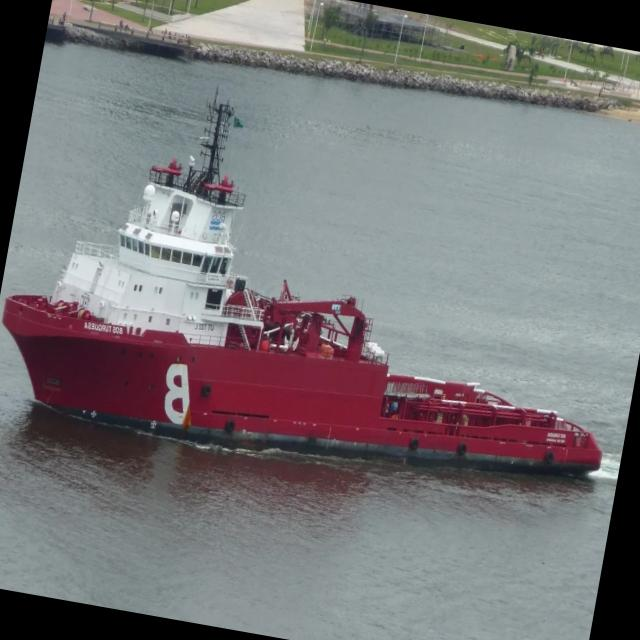Offshore: (2, 93, 602, 475)
